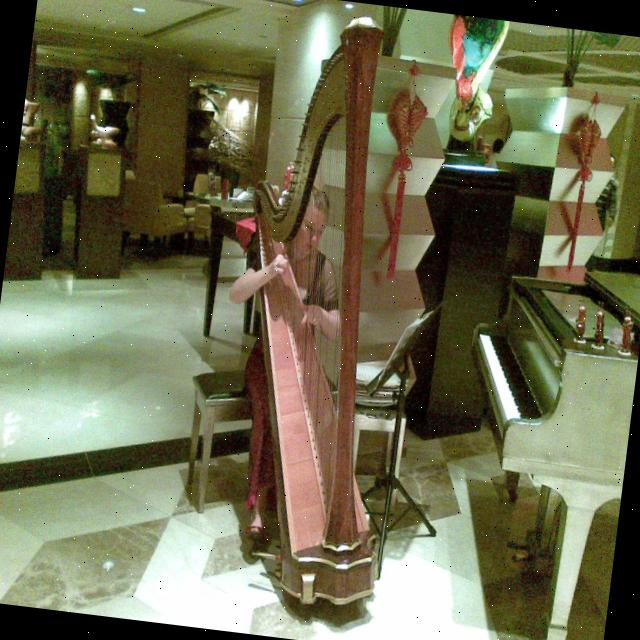harp: (196, 3, 446, 614)
